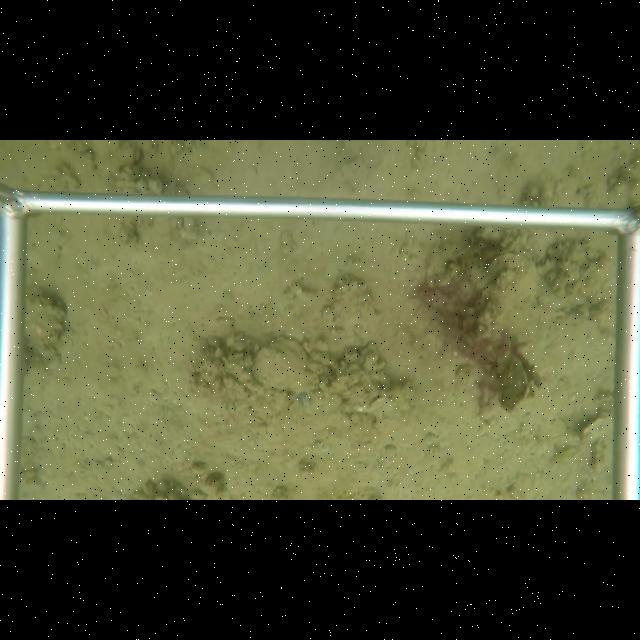Oyster-Closed: (455, 252, 541, 341), (249, 334, 323, 395), (25, 289, 68, 366), (494, 346, 531, 415), (580, 417, 614, 441)
